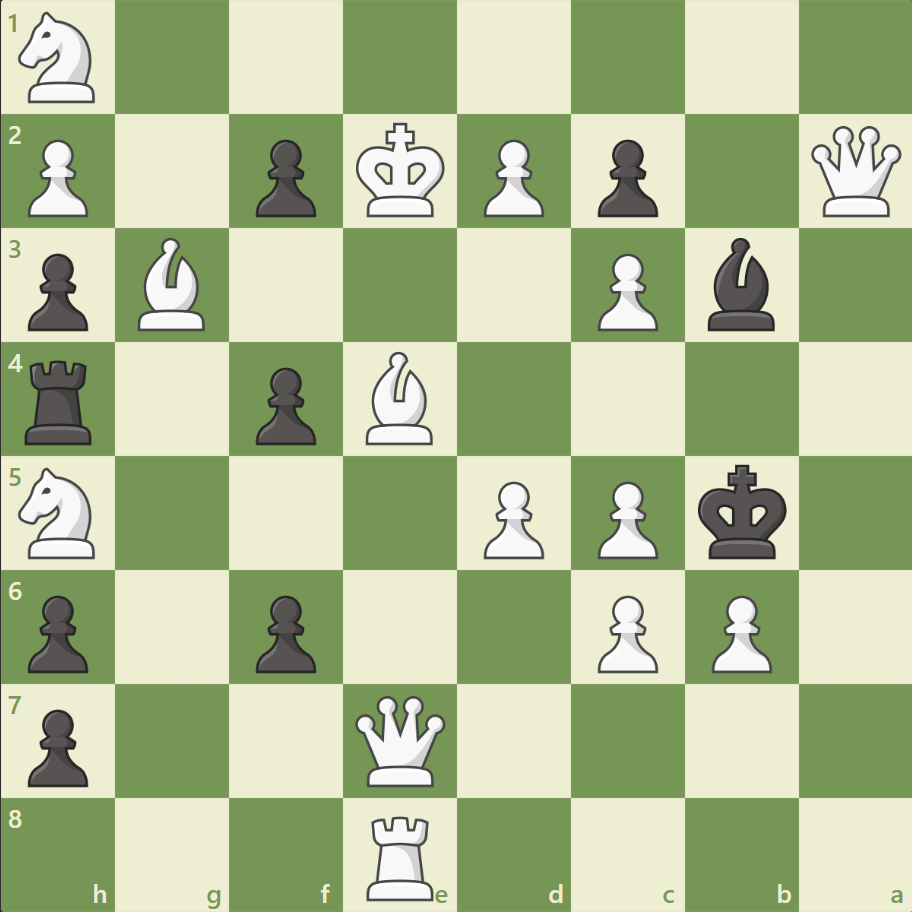B: (131, 233, 215, 336), (358, 347, 442, 449)
K: (351, 117, 451, 225)
N: (11, 461, 108, 564), (11, 7, 108, 110)
P: (701, 586, 776, 677), (474, 473, 549, 564), (474, 132, 549, 223), (20, 132, 95, 223), (588, 586, 662, 677), (588, 473, 662, 564), (588, 246, 662, 337)
Q: (805, 122, 904, 222), (351, 690, 450, 789)
R: (360, 806, 442, 904)
b: (698, 233, 782, 336)
k: (692, 458, 792, 566)
p: (20, 700, 95, 791), (247, 586, 322, 677), (20, 586, 95, 677), (247, 359, 322, 450), (20, 246, 95, 337), (247, 132, 322, 223), (588, 132, 662, 223)
r: (19, 352, 102, 449)
